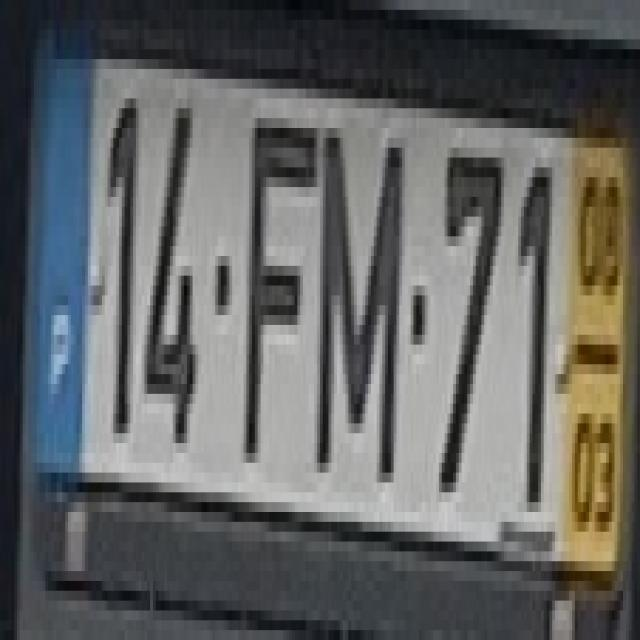1: (498, 128, 564, 502), (94, 79, 142, 424)
4: (130, 69, 207, 443)
7: (422, 128, 504, 492)
F: (226, 89, 323, 454)
M: (303, 99, 408, 482)
